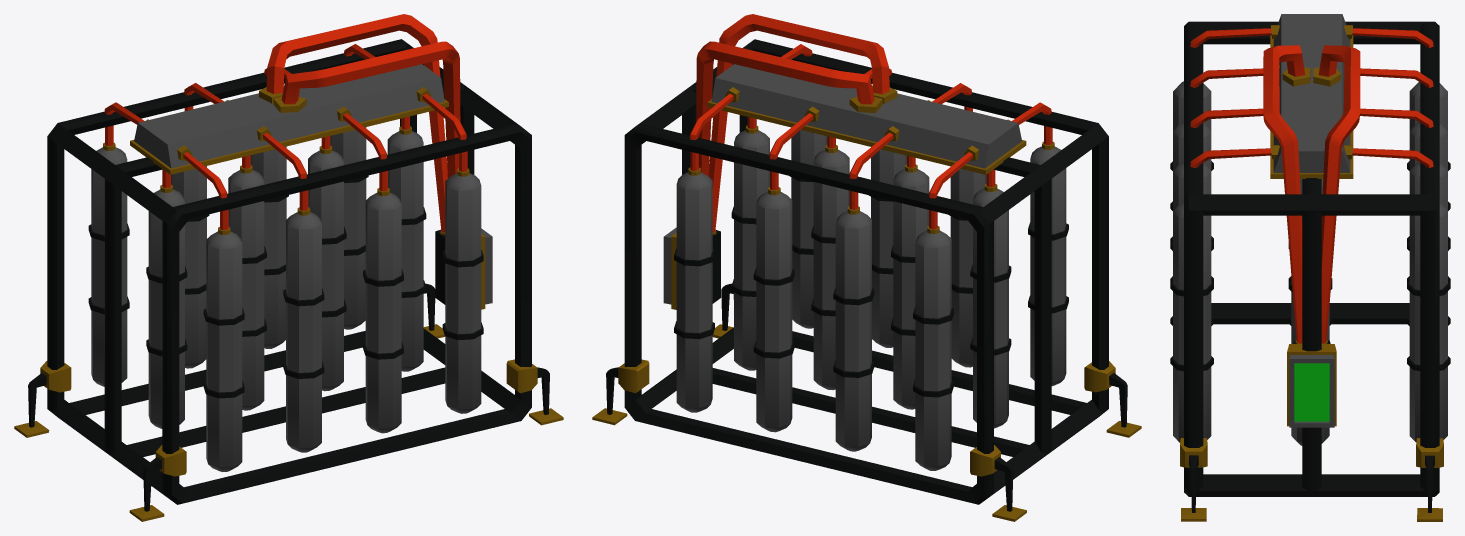
Rendered from maquina3.fbx.
3 renders of one model, left to right at view 1: azimuth 30°, elevation 25°; view 2: azimuth 150°, elevation 25°; view 3: azimuth 270°, elevation 25°, orthographic. The views are drawn at different scales.
Visible parts, largest first — view 1: machine_3; view 2: machine_3; view 3: machine_3.
Boxes of the visible parts, left/top/right/bottom form: machine_3: left=14, top=14, right=563, bottom=521; machine_3: left=592, top=14, right=1141, bottom=521; machine_3: left=1170, top=14, right=1450, bottom=521.
Size of the model in its own units: 955 by 790 by 534.
